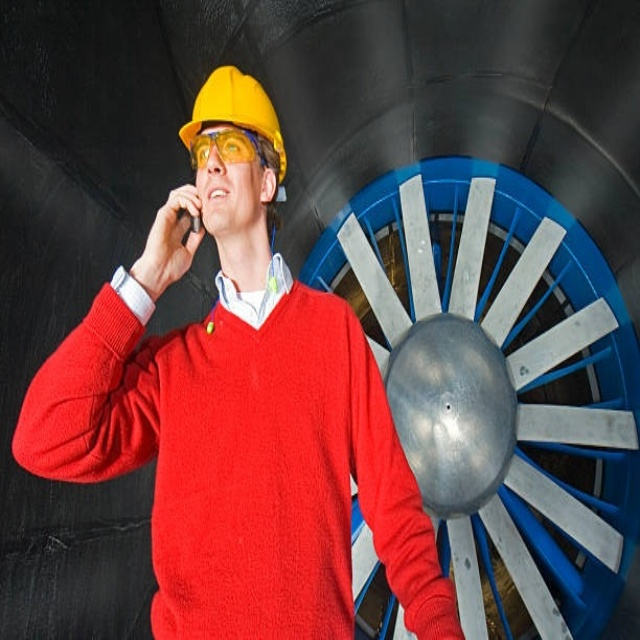Gafas: (188, 127, 270, 174)
Sin_guantes: (148, 182, 201, 281)
Sin_mascara: (202, 179, 231, 222)
